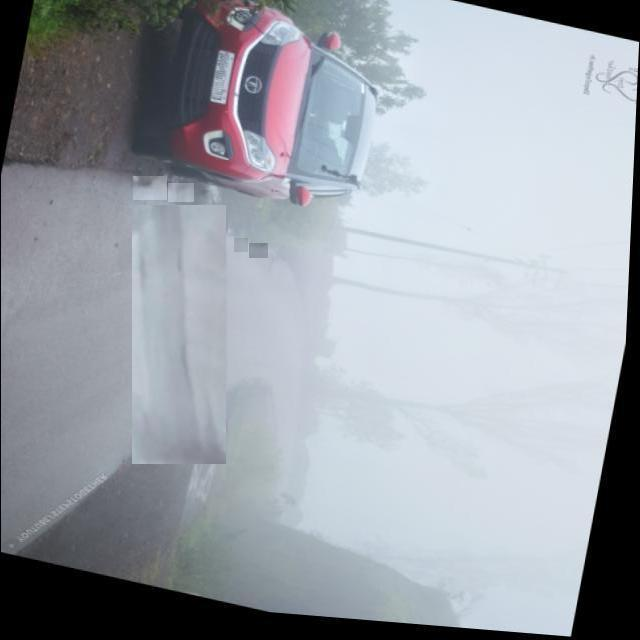Pothole: (133, 176, 167, 200), (168, 183, 194, 202), (249, 243, 268, 258), (192, 190, 210, 204), (234, 238, 248, 252)
Unmarked Bump: (132, 205, 226, 464)
